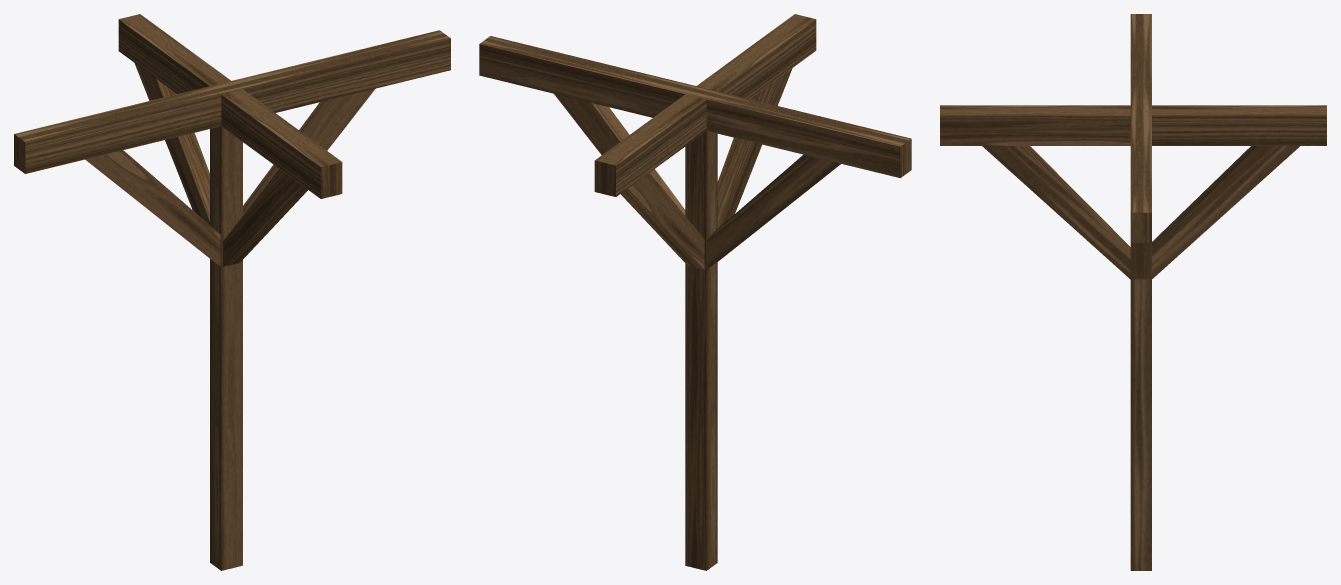
The model's file is Wooden 02.glb.
3 views of the same model, side by side, from view 1: azimuth 30°, elevation 25°; view 2: azimuth 150°, elevation 25°; view 3: azimuth 270°, elevation 25° (orthographic). The views are drawn at different scales.
Visible parts, largest first — view 1: Wooden_02; view 2: Wooden_02; view 3: Wooden_02.
Boxes of the visible parts, <box> form: Wooden_02: <box>14,14,450,570</box>; Wooden_02: <box>479,14,911,570</box>; Wooden_02: <box>940,14,1326,570</box>.
Bounding box in the file's own units: 1.1 × 1.18 × 0.9063.
1 material, 1 textured.
